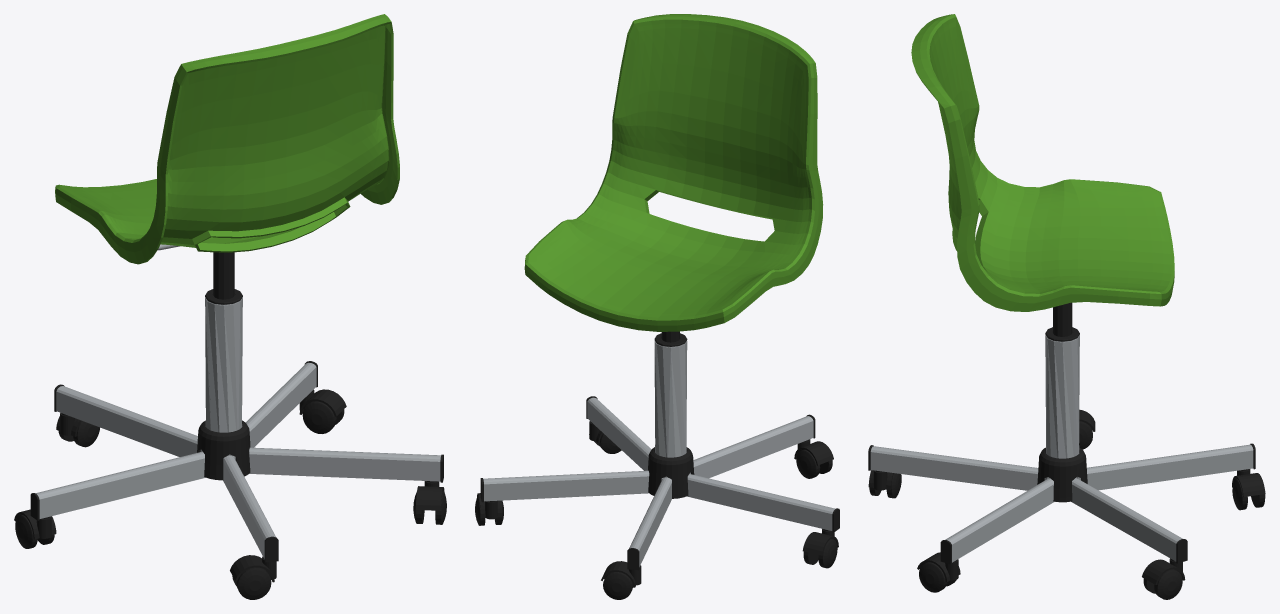
The picture shows the model from 3 angles, left to right: view 1: azimuth 30°, elevation 25°; view 2: azimuth 150°, elevation 25°; view 3: azimuth 270°, elevation 25°; orthographic projection. The views are drawn at different scales.
Visible parts, largest first — view 1: Mesh2 Group2 SNILLE_IKEA1 Model, Mesh8 Group6 SNILLE_IKEA1 Model, Mesh7 Group5 SNILLE_IKEA1 Model, Mesh1 Group1 SNILLE_IKEA1 Model, Mesh3 Group3 SNILLE_IKEA1 Model, Mesh20 ROULETTE4 SNILLE_IKEA1 Model, Mesh16 ROULETTE3 SNILLE_IKEA1 Model, Mesh12 ROULETTE2 SNILLE_IKEA1 Model, Mesh18 ROULETTE4 SNILLE_IKEA1 Model, Mesh15 ROULETTE3 SNILLE_IKEA1 Model, Mesh9 ROULETTE1 SNILLE_IKEA1 Model; view 2: Mesh2 Group2 SNILLE_IKEA1 Model, Mesh8 Group6 SNILLE_IKEA1 Model, Mesh7 Group5 SNILLE_IKEA1 Model, Mesh1 Group1 SNILLE_IKEA1 Model, Mesh23 ROULETTE5 SNILLE_IKEA1 Model, Mesh18 ROULETTE4 SNILLE_IKEA1 Model, Mesh9 ROULETTE1 SNILLE_IKEA1 Model, Mesh19 ROULETTE4 SNILLE_IKEA1 Model, Mesh21 ROULETTE5 SNILLE_IKEA1 Model; view 3: Mesh2 Group2 SNILLE_IKEA1 Model, Mesh8 Group6 SNILLE_IKEA1 Model, Mesh7 Group5 SNILLE_IKEA1 Model, Mesh1 Group1 SNILLE_IKEA1 Model, Mesh3 Group3 SNILLE_IKEA1 Model, Mesh17 ROULETTE3 SNILLE_IKEA1 Model, Mesh14 ROULETTE2 SNILLE_IKEA1 Model, Mesh21 ROULETTE5 SNILLE_IKEA1 Model, Mesh15 ROULETTE3 SNILLE_IKEA1 Model.
Boxes of the visible parts, x1,y1,x2,y2 form: Mesh2 Group2 SNILLE_IKEA1 Model: [55, 14, 399, 264]; Mesh8 Group6 SNILLE_IKEA1 Model: [30, 361, 443, 562]; Mesh7 Group5 SNILLE_IKEA1 Model: [205, 297, 242, 432]; Mesh1 Group1 SNILLE_IKEA1 Model: [197, 420, 250, 480]; Mesh3 Group3 SNILLE_IKEA1 Model: [205, 252, 242, 304]; Mesh20 ROULETTE4 SNILLE_IKEA1 Model: [236, 567, 271, 599]; Mesh16 ROULETTE3 SNILLE_IKEA1 Model: [302, 401, 336, 433]; Mesh12 ROULETTE2 SNILLE_IKEA1 Model: [415, 481, 444, 510]; Mesh18 ROULETTE4 SNILLE_IKEA1 Model: [230, 555, 276, 582]; Mesh15 ROULETTE3 SNILLE_IKEA1 Model: [299, 389, 346, 416]; Mesh9 ROULETTE1 SNILLE_IKEA1 Model: [14, 509, 56, 539]; Mesh2 Group2 SNILLE_IKEA1 Model: [524, 14, 823, 331]; Mesh8 Group6 SNILLE_IKEA1 Model: [480, 396, 839, 570]; Mesh7 Group5 SNILLE_IKEA1 Model: [654, 341, 687, 457]; Mesh1 Group1 SNILLE_IKEA1 Model: [648, 447, 694, 498]; Mesh23 ROULETTE5 SNILLE_IKEA1 Model: [603, 572, 632, 599]; Mesh18 ROULETTE4 SNILLE_IKEA1 Model: [794, 439, 833, 465]; Mesh9 ROULETTE1 SNILLE_IKEA1 Model: [802, 529, 838, 555]; Mesh19 ROULETTE4 SNILLE_IKEA1 Model: [796, 449, 820, 478]; Mesh21 ROULETTE5 SNILLE_IKEA1 Model: [601, 561, 641, 587]; Mesh2 Group2 SNILLE_IKEA1 Model: [911, 14, 1174, 311]; Mesh8 Group6 SNILLE_IKEA1 Model: [868, 443, 1255, 564]; Mesh7 Group5 SNILLE_IKEA1 Model: [1045, 335, 1079, 458]; Mesh1 Group1 SNILLE_IKEA1 Model: [1037, 447, 1087, 502]; Mesh3 Group3 SNILLE_IKEA1 Model: [1045, 302, 1079, 341]; Mesh17 ROULETTE3 SNILLE_IKEA1 Model: [1154, 569, 1182, 599]; Mesh14 ROULETTE2 SNILLE_IKEA1 Model: [919, 562, 947, 592]; Mesh21 ROULETTE5 SNILLE_IKEA1 Model: [1232, 469, 1265, 497]; Mesh15 ROULETTE3 SNILLE_IKEA1 Model: [1142, 558, 1185, 584].
Size of the model in its own units: 0.5841 by 0.7897 by 0.5961.
